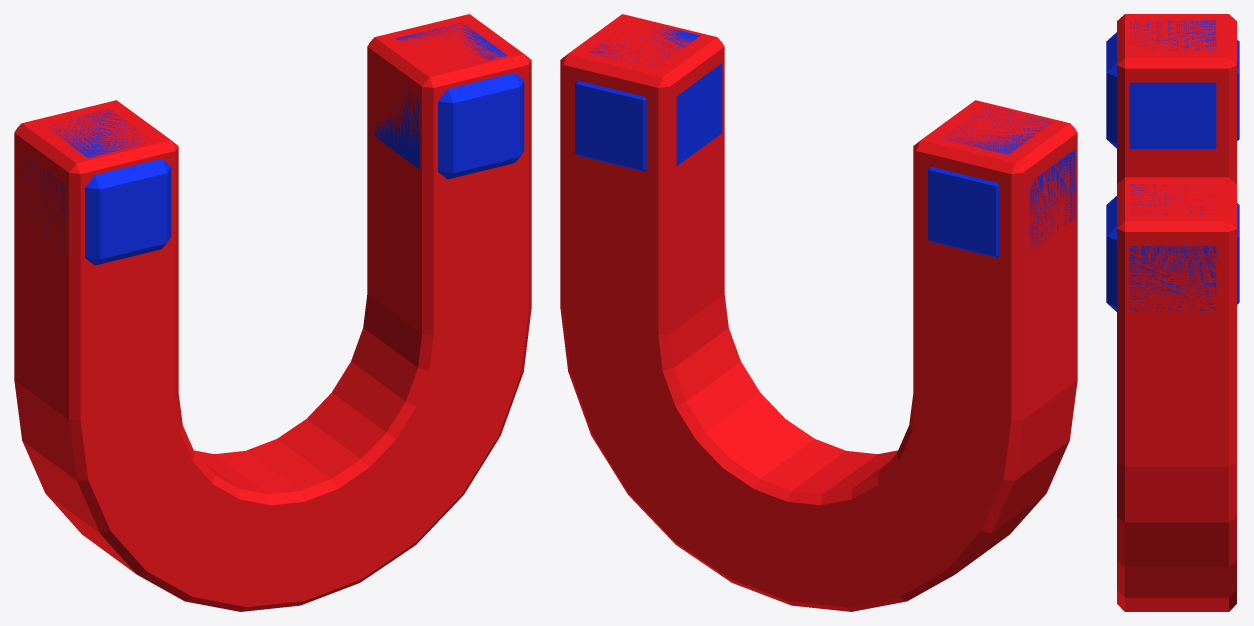
The model's file is PWR_magnet__v001__model.fbx.
3 views of the same model, side by side, from view 1: azimuth 30°, elevation 25°; view 2: azimuth 150°, elevation 25°; view 3: azimuth 270°, elevation 25° (orthographic). The views are drawn at different scales.
Visible parts, largest first — view 1: PWR_magnet_Mesh; view 2: PWR_magnet_Mesh; view 3: PWR_magnet_Mesh.
Boxes of the visible parts, bbox=[...] form: PWR_magnet_Mesh: bbox=[14, 14, 531, 611]; PWR_magnet_Mesh: bbox=[560, 14, 1077, 611]; PWR_magnet_Mesh: bbox=[1106, 14, 1239, 611].
Size of the model in its own units: 0.76 by 0.78 by 0.2.
1 material, 1 textured.
